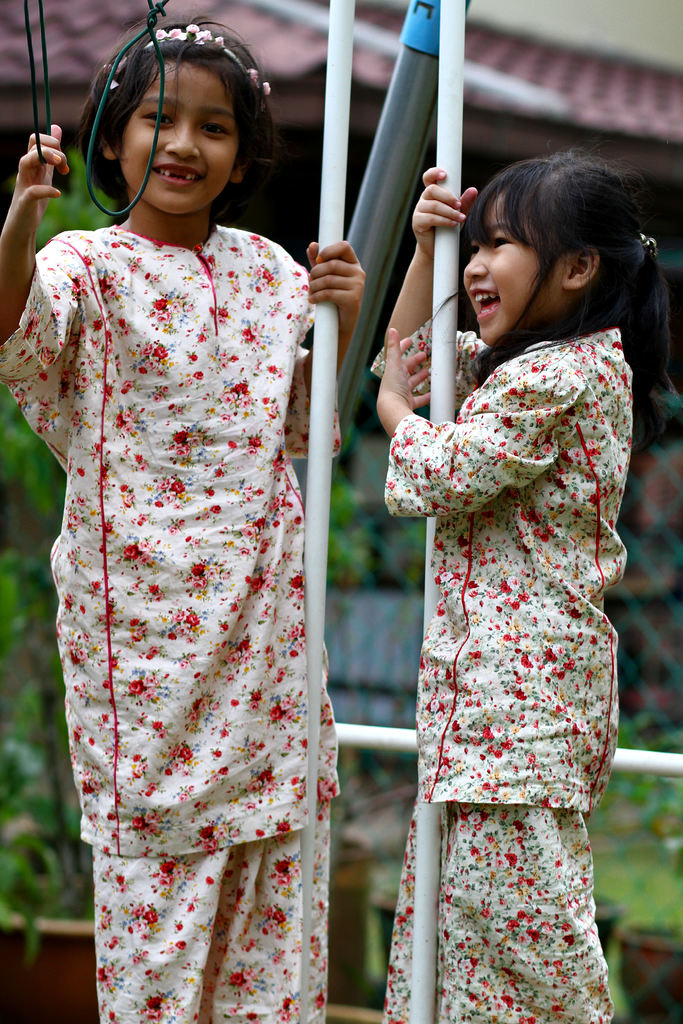face: (461, 184, 541, 341)
